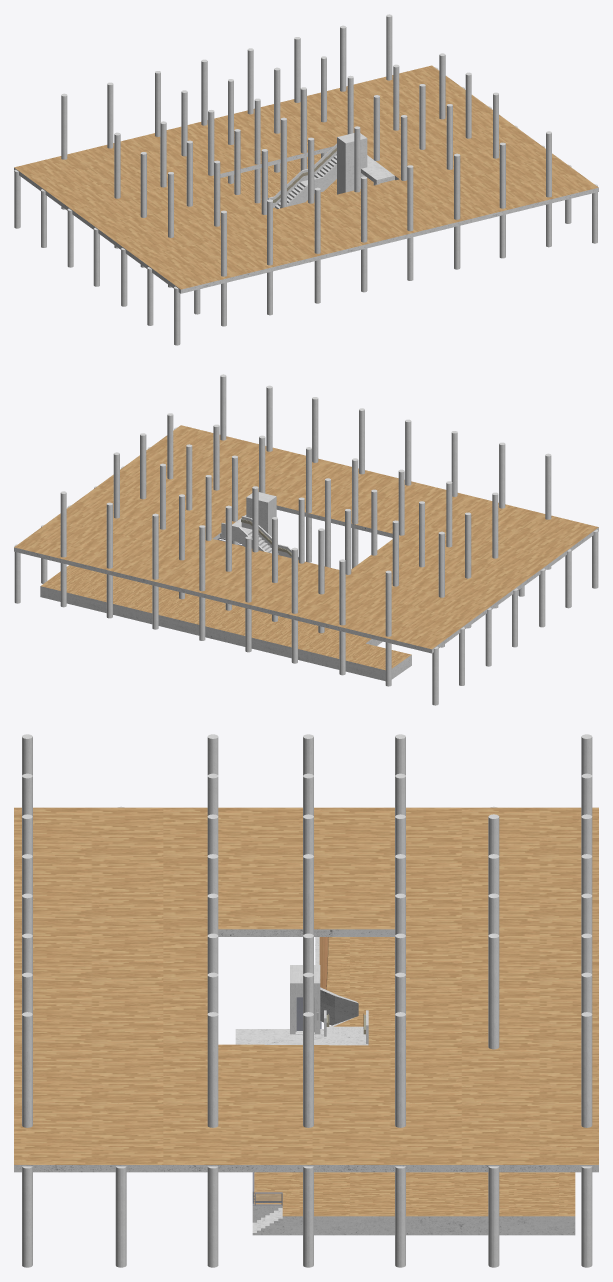
File: Building.fbx
The picture shows the model from 3 angles, top to bottom: view 1: azimuth 30°, elevation 25°; view 2: azimuth 150°, elevation 25°; view 3: azimuth 270°, elevation 25°; orthographic projection. The views are drawn at different scales.
Parts seen in each view (by area): view 1: SecondFloor, FirstFloor, Stairs12, Lift, ColumnA8, ColumnA5, ColumnA4, ColumnA7, ColumnA6, ColumnE5, ColumnA2, ColumnA9 (+30 smaller); view 2: SecondFloor, FirstFloor, Stairs12, Lift, ColumnG5, ColumnG3, ColumnG2, ColumnG9, ColumnG8, ColumnG4, ColumnG7, ColumnG6 (+28 smaller); view 3: SecondFloor, FirstFloor, Lift, ColumnF7, ColumnC9, ColumnG9, ColumnD9, ColumnE9, ColumnA9, ColumnG10, ColumnF10, ColumnC10 (+5 smaller).
Boxes of the visible parts, x1,y1,x2,y2 form: SecondFloor: (14, 65, 598, 293); FirstFloor: (220, 152, 394, 209); Stairs12: (268, 143, 336, 208); Lift: (337, 133, 367, 194); ColumnA8: (499, 142, 505, 258); ColumnA5: (361, 176, 367, 292); ColumnA4: (314, 187, 320, 303); ColumnA7: (454, 153, 460, 269); ColumnA6: (407, 165, 413, 280); ColumnE5: (254, 98, 260, 203); ColumnA2: (221, 210, 226, 326); ColumnA9: (546, 131, 551, 247); SecondFloor: (14, 425, 598, 653); FirstFloor: (40, 538, 411, 681); Stairs12: (221, 516, 298, 559); Lift: (246, 492, 276, 536); ColumnG5: (245, 536, 251, 652); ColumnG3: (339, 559, 345, 675); ColumnG2: (385, 570, 391, 686); ColumnG9: (60, 491, 66, 607); ColumnG8: (106, 502, 112, 618); ColumnG4: (291, 547, 297, 663); ColumnG7: (152, 513, 158, 629); ColumnG6: (199, 525, 205, 640); SecondFloor: (14, 807, 598, 1172); FirstFloor: (252, 937, 575, 1235); Lift: (290, 965, 320, 1034); ColumnF7: (488, 933, 499, 1049); ColumnC9: (207, 1012, 218, 1127); ColumnG9: (581, 1012, 592, 1127); ColumnD9: (303, 1012, 313, 1127); ColumnE9: (395, 1012, 405, 1127); ColumnA9: (22, 1012, 32, 1127); ColumnG10: (581, 1166, 592, 1267); ColumnF10: (488, 1166, 499, 1267); ColumnC10: (207, 1166, 218, 1267).
Bounding box in the file's own units: 3924 × 1071 × 2683.
